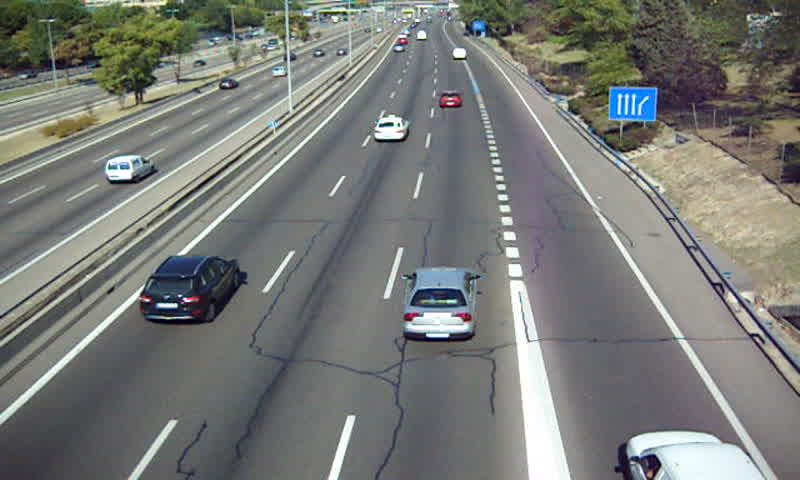car: (139, 255, 238, 322), (402, 268, 475, 340), (374, 116, 410, 140), (438, 89, 461, 107)
